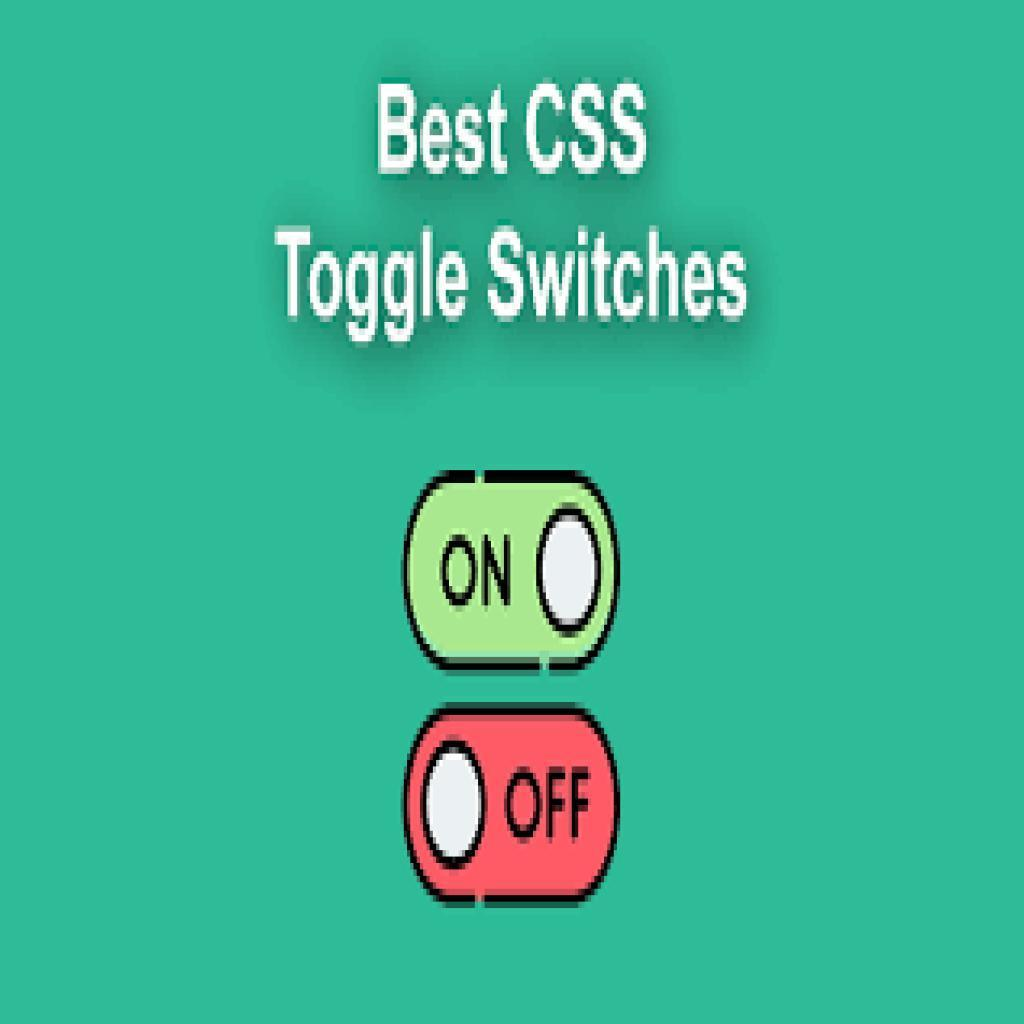switch: (401, 703, 624, 911), (406, 474, 626, 674)
